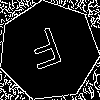F: (23, 26, 69, 80)
